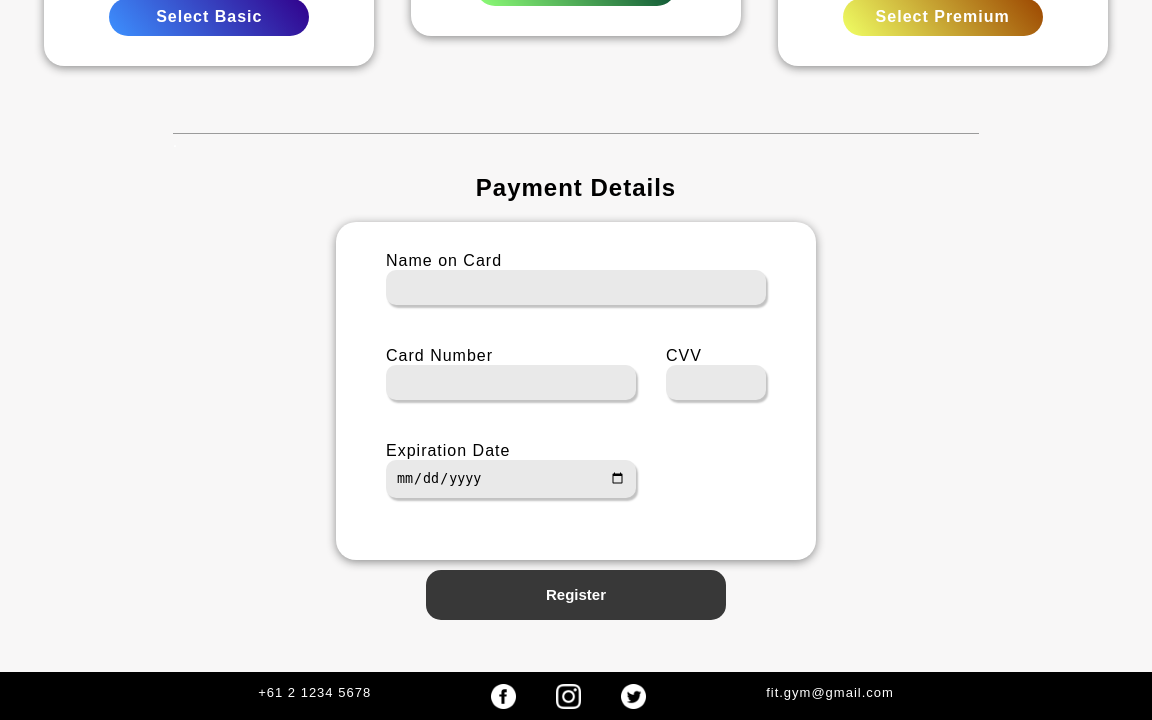
Test case: Registration › Error messages for empty fields are displayed on submit
(page scrolled)
Click the button "Register": (576,595) [426,570,726,620]
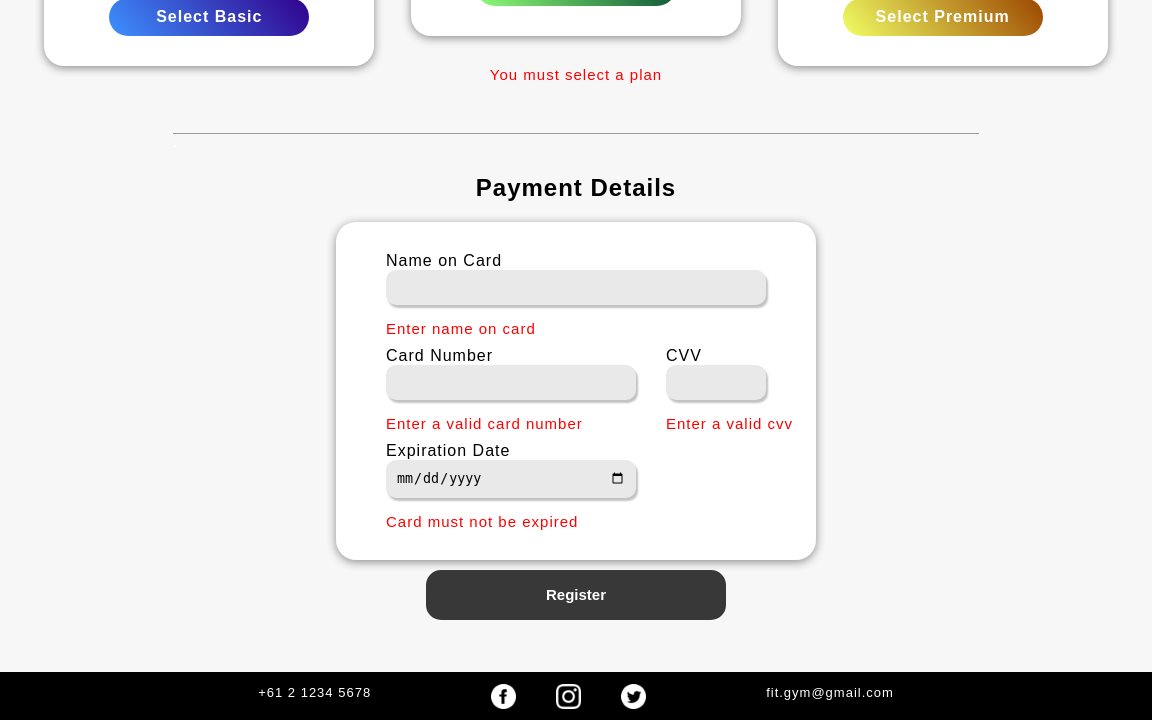
Now the text "You must select a plan" is shown, box [490,66,662,83]
Now the text "Enter name on card" is shown, box [386,320,536,337]
Now the text "Enter a valid card number" is shown, box [386,415,583,432]
